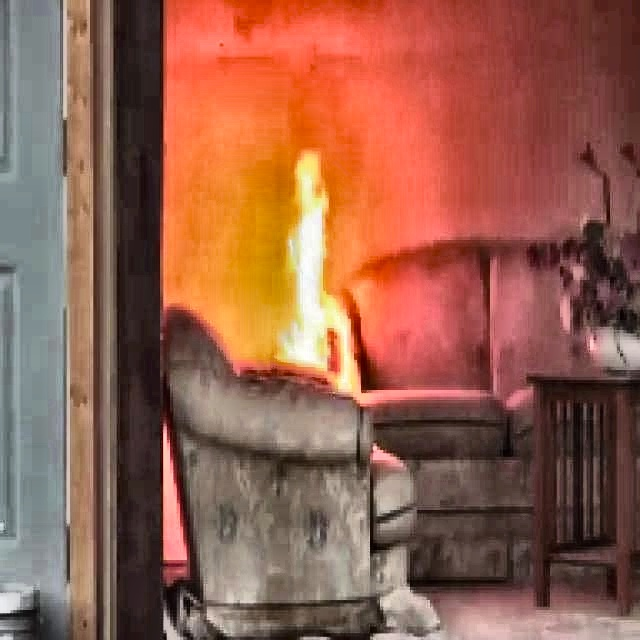fire: (267, 146, 350, 385)
